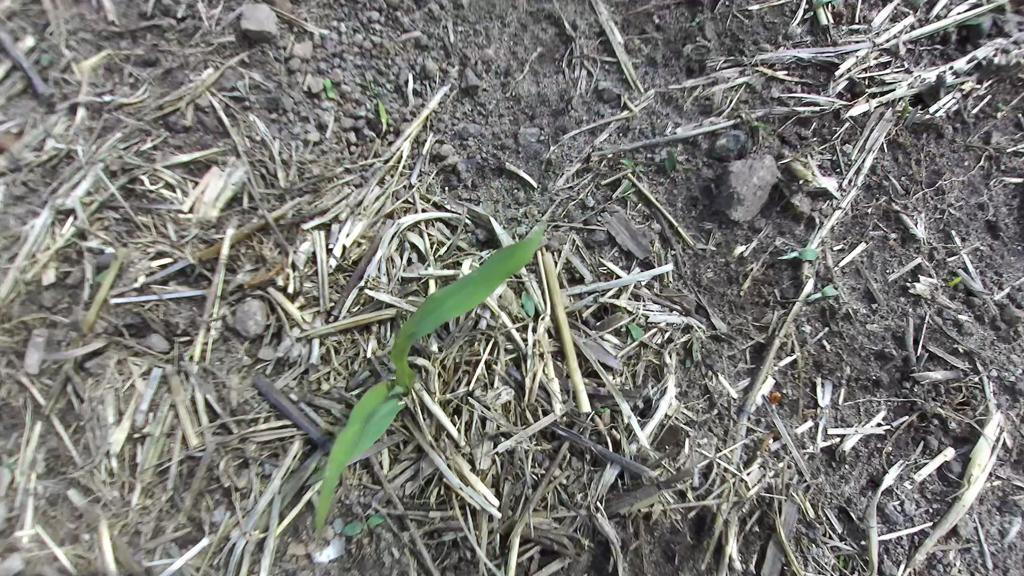BroWeed: (804, 281, 841, 311), (317, 76, 347, 110), (776, 246, 824, 262), (361, 508, 388, 535), (618, 317, 646, 343), (338, 516, 368, 540), (518, 288, 538, 320), (377, 96, 389, 137), (750, 118, 774, 134), (92, 267, 112, 286), (663, 149, 677, 175), (616, 176, 634, 195), (898, 100, 913, 121), (948, 273, 964, 289), (39, 53, 56, 68), (617, 155, 634, 169), (689, 14, 703, 29), (769, 391, 782, 405), (367, 94, 380, 106), (838, 555, 845, 569)
Maize: (264, 188, 555, 548)
